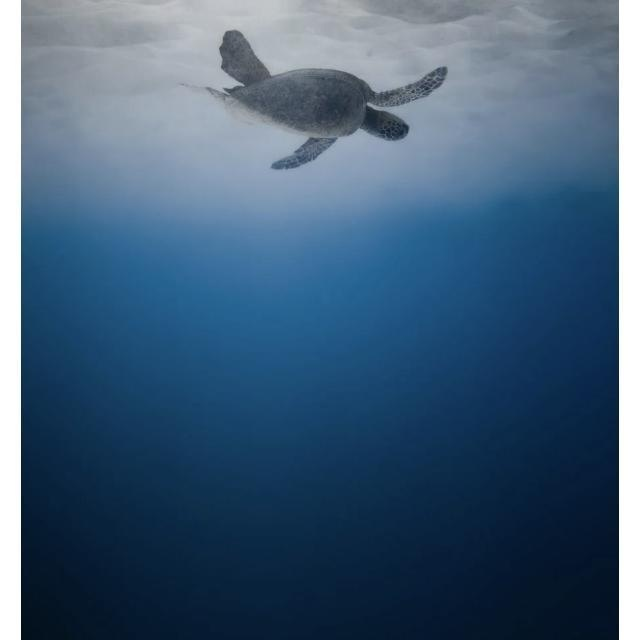turtle: (174, 29, 450, 171)
